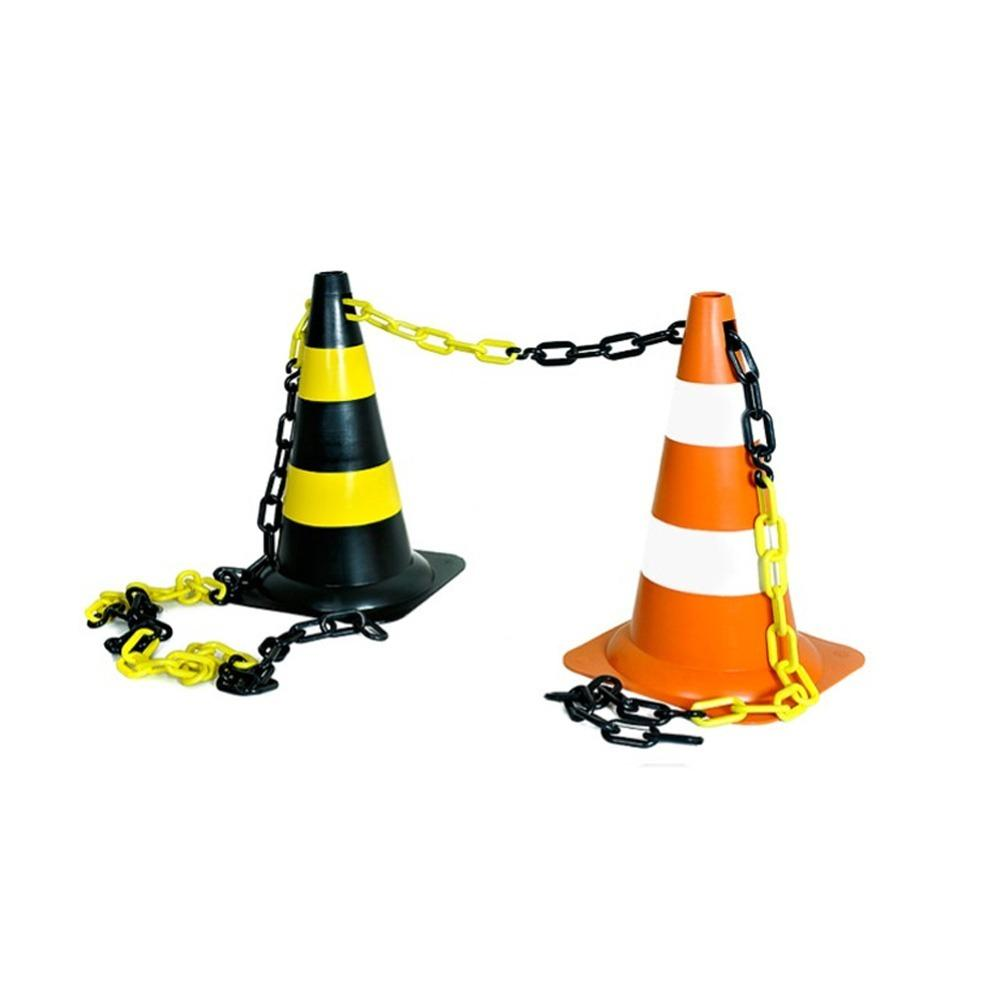traffic_cone: (561, 289, 865, 727), (212, 269, 465, 625)
